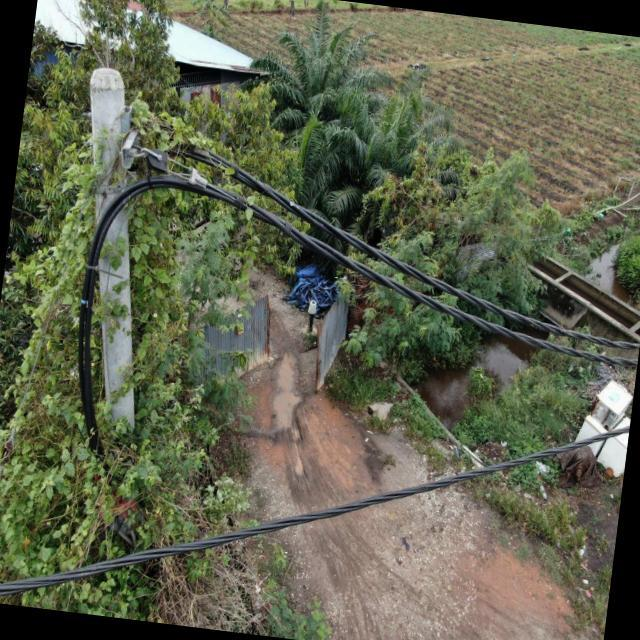critical vegetation: (0, 92, 218, 607)
